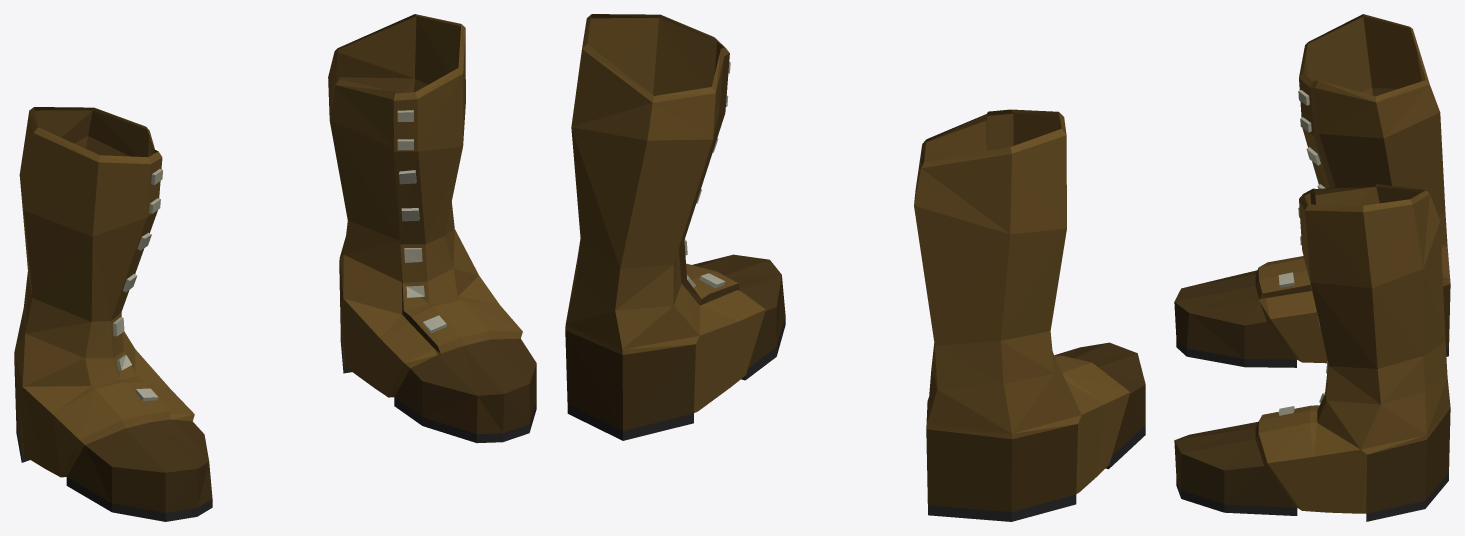
File: LegendaryNobleArcherBoots.dae
3 views of the same model, side by side, from view 1: azimuth 30°, elevation 25°; view 2: azimuth 150°, elevation 25°; view 3: azimuth 270°, elevation 25° (orthographic). The views are drawn at different scales.
Parts seen in each view (by area): view 1: Boots; view 2: Boots; view 3: Boots.
Part boxes in pixels (x1,y1,x2,y2): Boots: (14, 14, 536, 521); Boots: (565, 14, 1145, 521); Boots: (1174, 14, 1450, 521).
Bounding box in the file's own units: 2.68 × 1.51 × 1.87.
